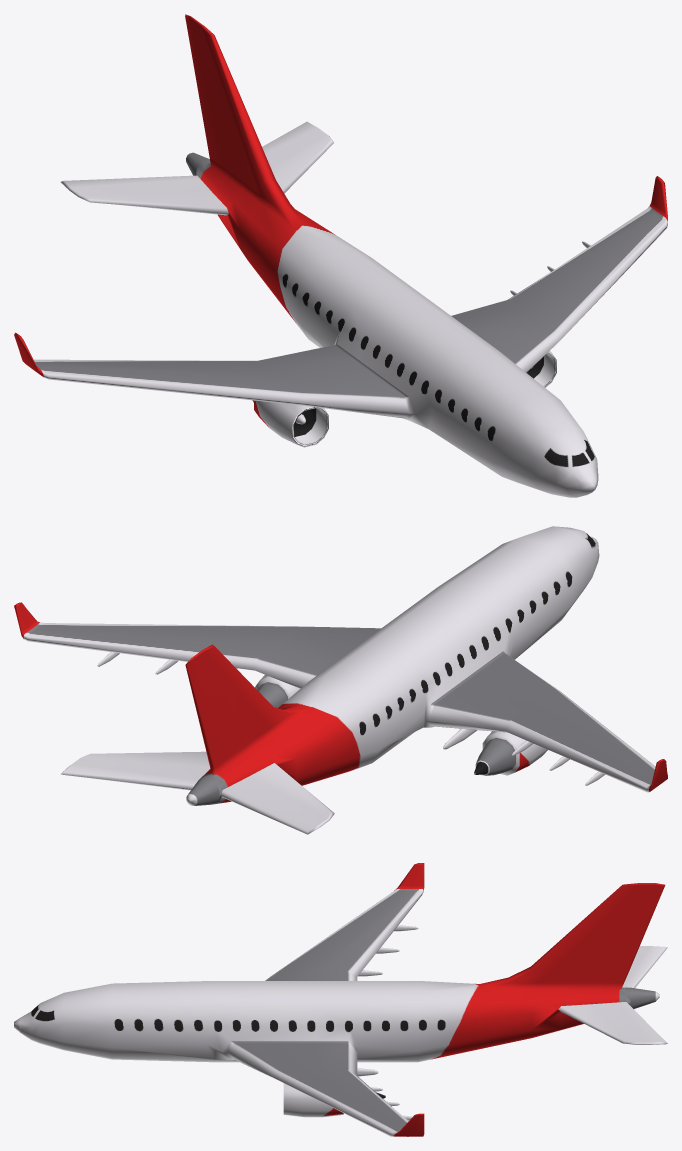
File: Commerical_Jet.fbx
3 renders of one model, top to bottom at view 1: azimuth 30°, elevation 25°; view 2: azimuth 150°, elevation 25°; view 3: azimuth 270°, elevation 25°, orthographic. The views are drawn at different scales.
Visible parts, largest first — view 1: Airbus; view 2: Airbus; view 3: Airbus.
Boxes of the visible parts, box(x1,y1,x2,y2) form: Airbus: box(14, 14, 667, 497); Airbus: box(14, 526, 667, 834); Airbus: box(14, 863, 667, 1136).
Size of the model in its own units: 5.29 by 1.83 by 5.8.
